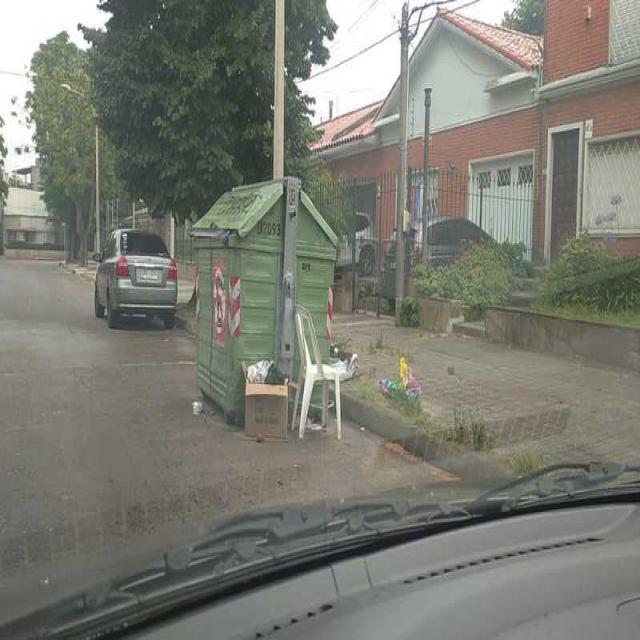garbage: (289, 303, 356, 455), (239, 354, 292, 445), (374, 347, 429, 391), (190, 398, 203, 417)
